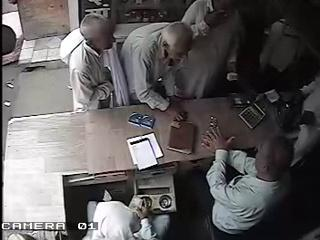Normal: (200, 120, 294, 240), (174, 0, 245, 100), (119, 22, 194, 112), (82, 192, 166, 240)
shoplifting: (59, 12, 131, 112)
